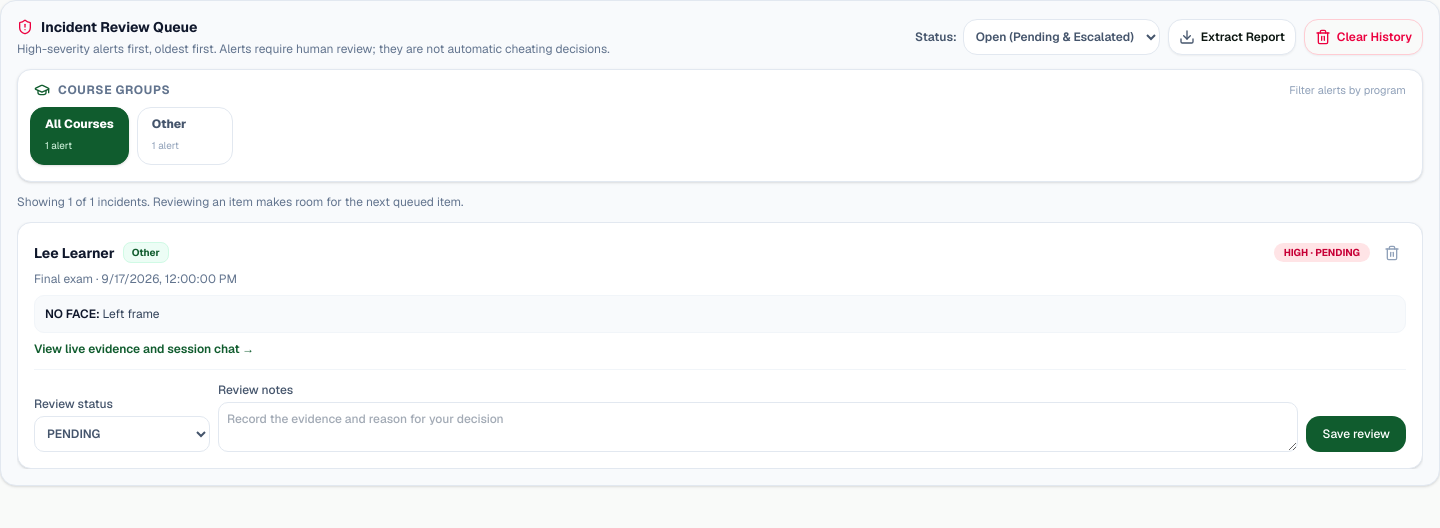
Test case: keeps review notes visible when an incident save fails
The image size is (1440, 528).
Type "Need a second reviewer" into the text box labelled "Review notes".
click(758, 426); type("Need a second reviewer")  # box [218,402,1298,452]
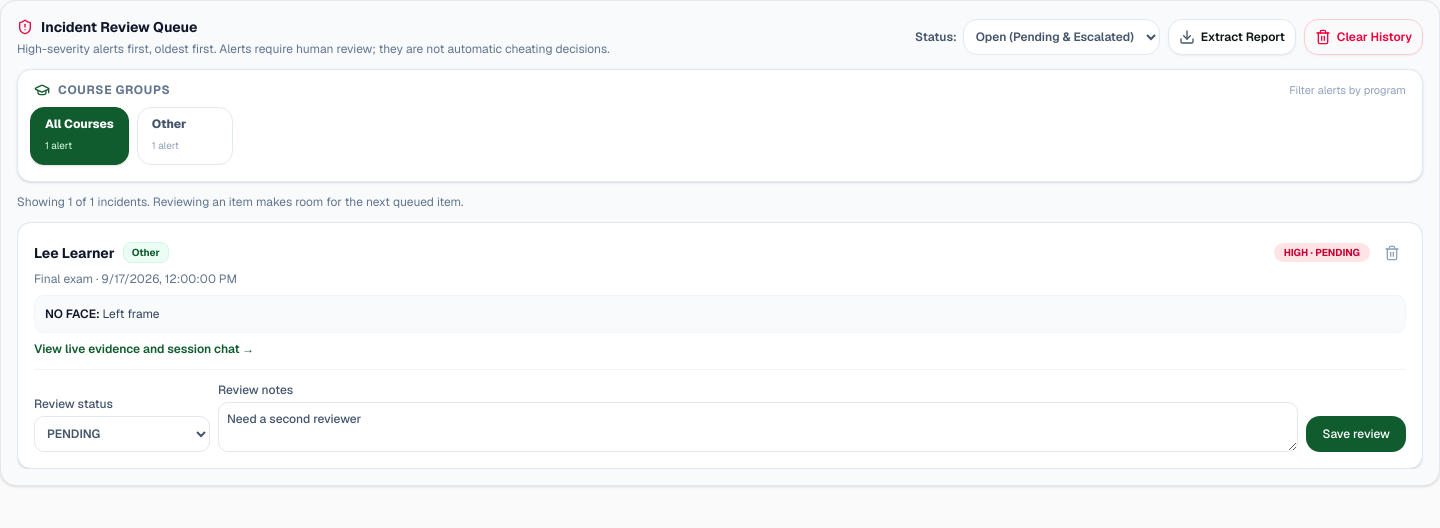
Click the button "Save review".
click(1356, 434)  # box [1306,416,1406,452]
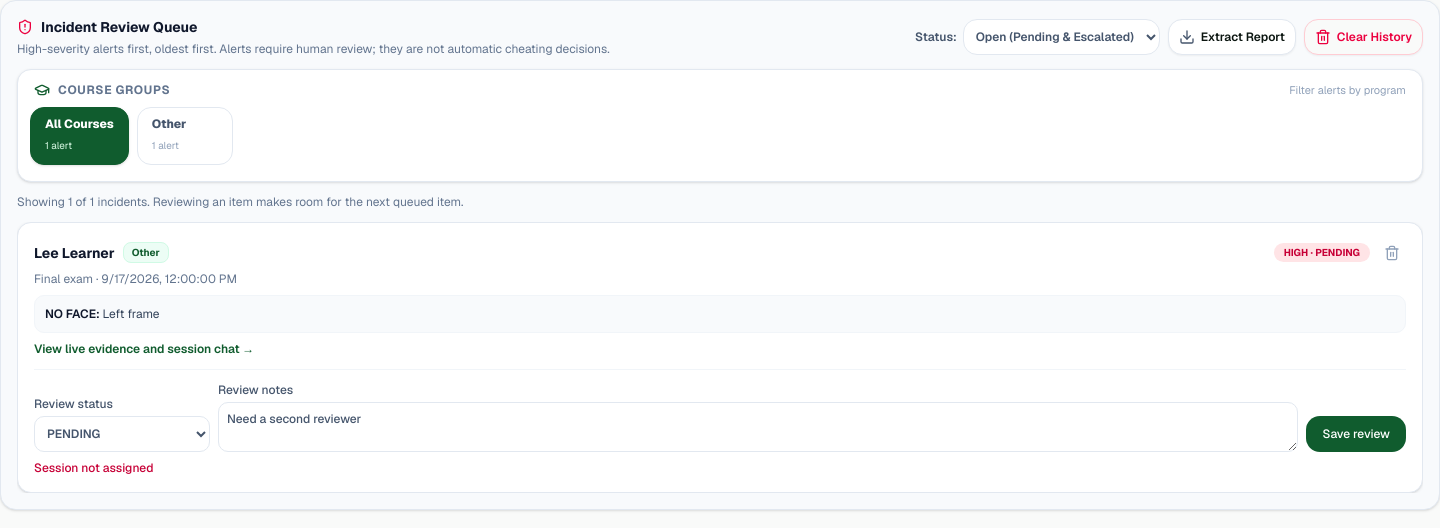
Now the message "Session not assigned" is shown, box [34,460,153,476]
